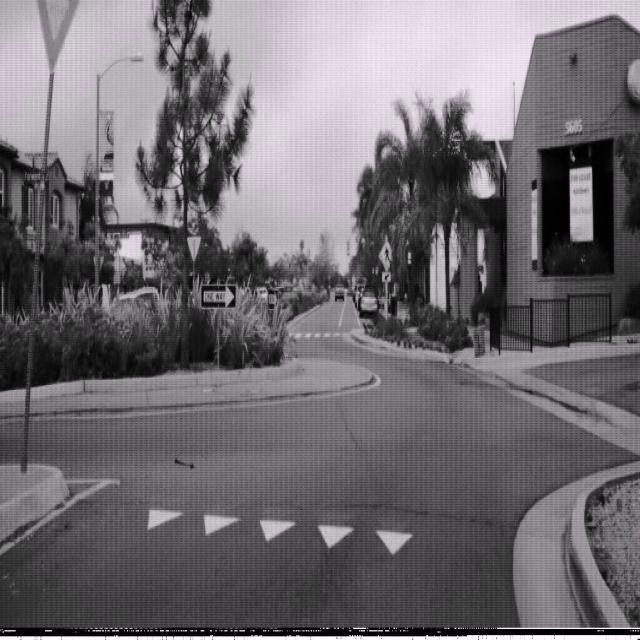pedestrianCrossing: (378, 238, 397, 273)
